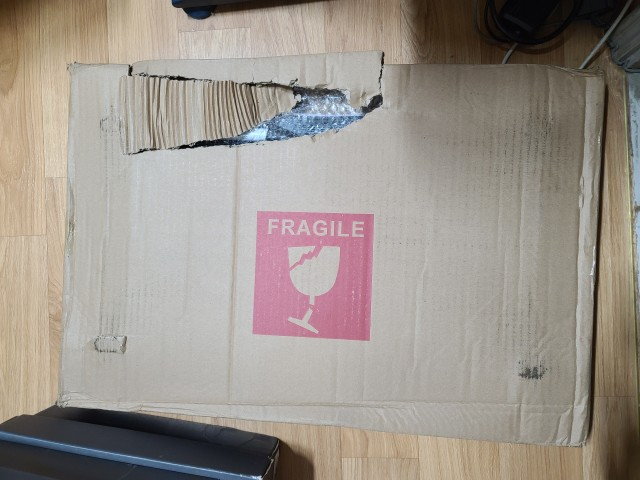damaged package: (123, 66, 401, 158)
